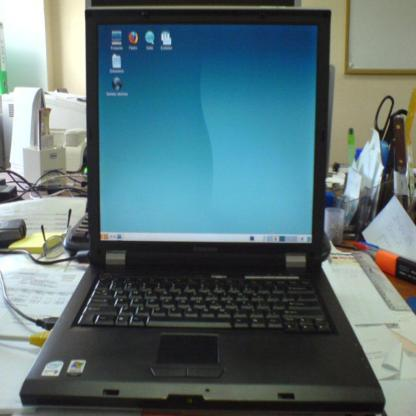board: (19, 7, 386, 416), (375, 98, 408, 144), (348, 128, 354, 167)
